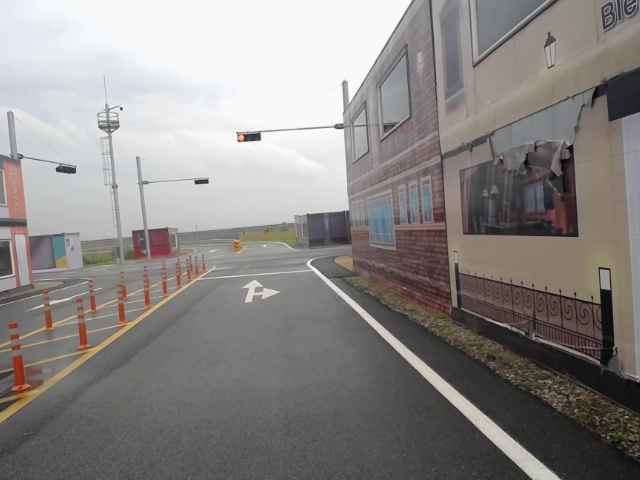red_3: (236, 132, 262, 142)
